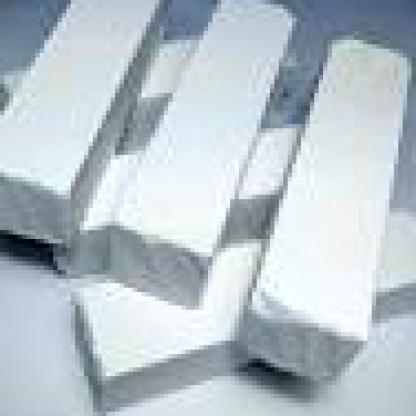Sedimentary_Chalk: (234, 35, 415, 391), (4, 0, 177, 292)
